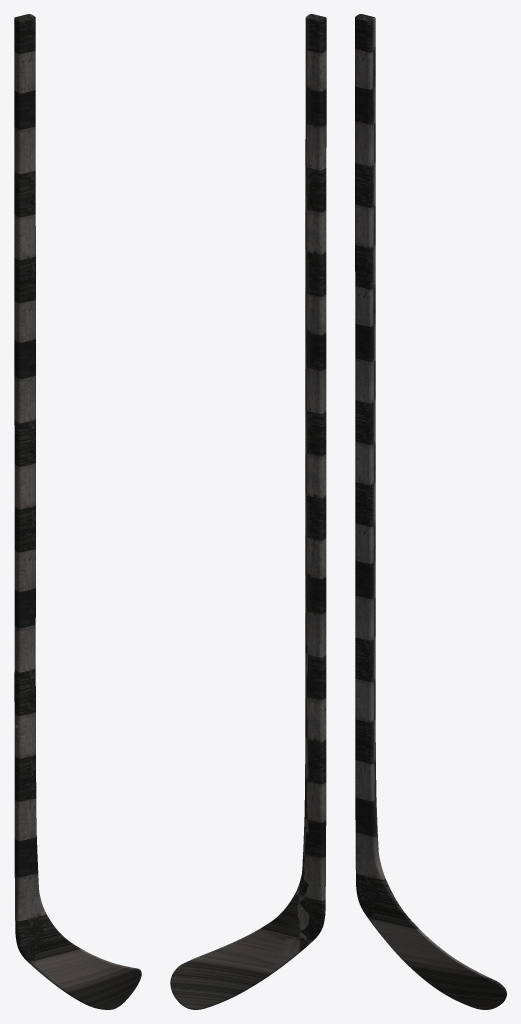
The picture shows the model from 3 angles, left to right: view 1: azimuth 30°, elevation 25°; view 2: azimuth 150°, elevation 25°; view 3: azimuth 330°, elevation 25°; orthographic projection. The views are drawn at different scales.
Visible parts, largest first — view 1: geometry_0; view 2: geometry_0; view 3: geometry_0.
Part boxes in pixels (box(x1,y1,x2,y2)): geometry_0: box(14, 14, 141, 1009); geometry_0: box(170, 14, 326, 1009); geometry_0: box(355, 14, 506, 1009).
Size of the model in its own units: 237 by 1650 by 65.43.
Materials: 1 (1 with a texture image).
